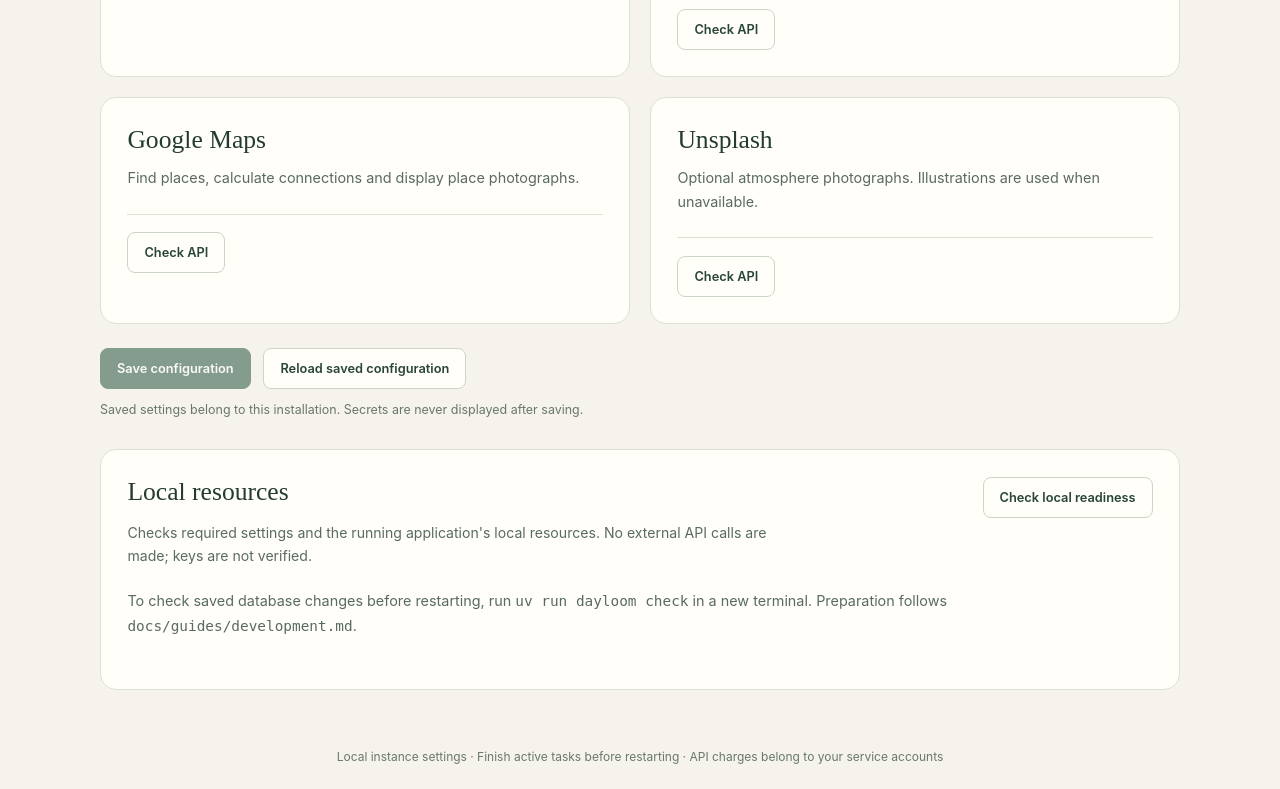
Scenario: locks fields controlled by the process environment and reports local resource checks
(page scrolled)
Click the button "Check local readiness" at (1068, 497), box [982,477,1153,518]
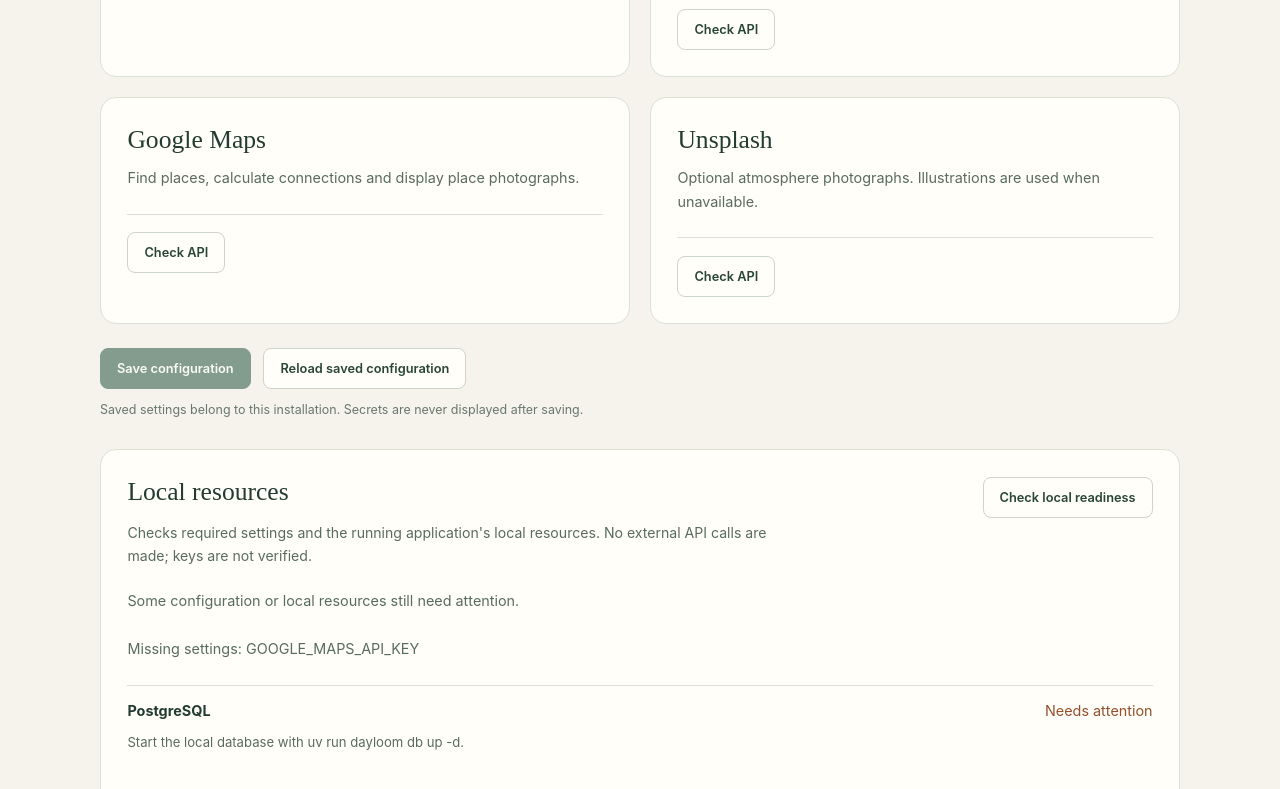
Check: the text "Needs attention" is shown, box [1045,702,1153,719]
Check: the text "Missing settings: GOOGLE_MAPS_API_KEY" is shown, box [127,640,419,657]
